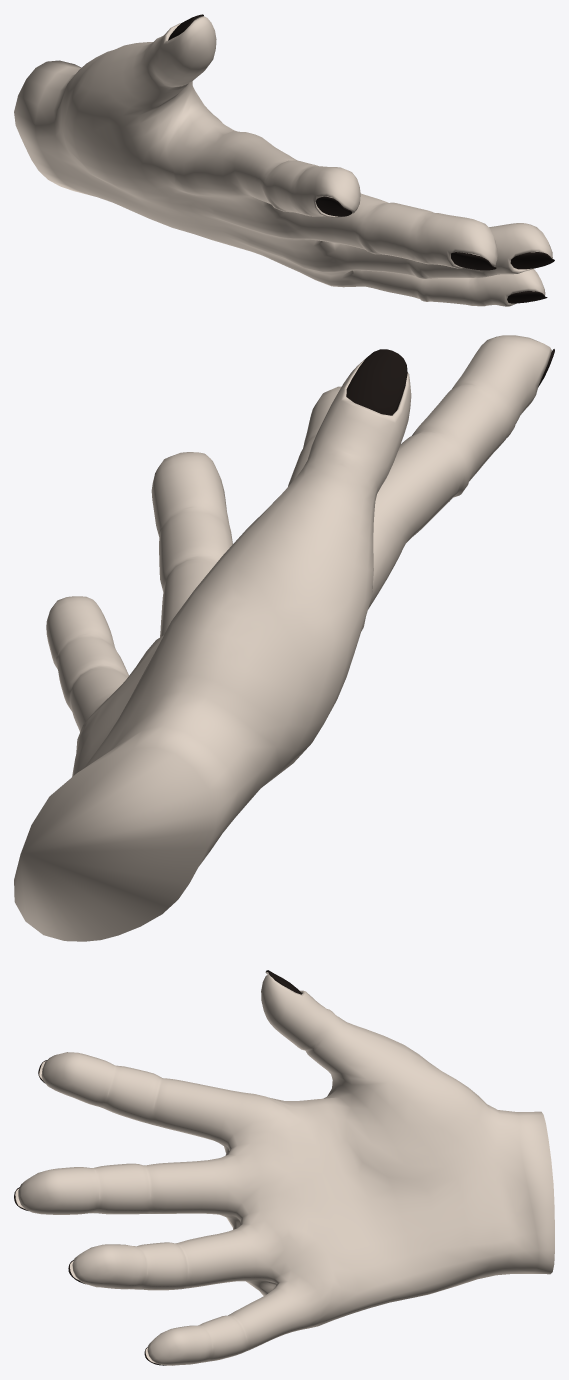
File: käsi.fbx
3 views of the same model, one above another, from view 1: azimuth 30°, elevation 25°; view 2: azimuth 150°, elevation 25°; view 3: azimuth 270°, elevation 25° (orthographic). The views are drawn at different scales.
Parts seen in each view (by area): view 1: Käsi; view 2: Käsi; view 3: Käsi.
Boxes of the visible parts, x1=… form: Käsi: x1=14, y1=14, x2=554, y2=306; Käsi: x1=14, y1=335, x2=554, y2=941; Käsi: x1=14, y1=970, x2=554, y2=1365.
Bounding box in the file's own units: 10.47 × 9.74 × 16.6.
